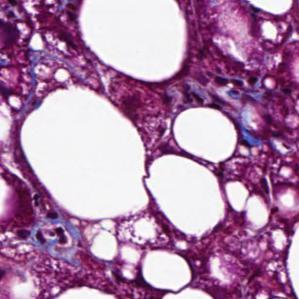inflammation: (32, 221, 71, 253)
